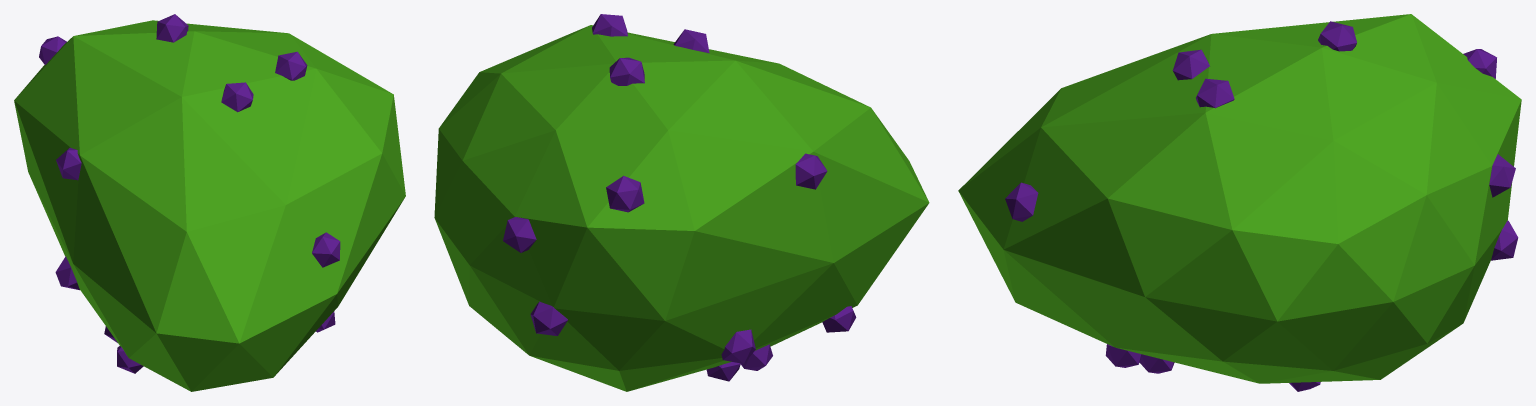
The model's file is Bush03_Brombeere.fbx.
3 views of the same model, side by side, from view 1: azimuth 30°, elevation 25°; view 2: azimuth 150°, elevation 25°; view 3: azimuth 270°, elevation 25° (orthographic). The views are drawn at different scales.
Visible parts, largest first — view 1: Bush03_Berry; view 2: Bush03_Berry; view 3: Bush03_Berry.
Boxes of the visible parts, box(x1,y1,x2,y2) form: Bush03_Berry: box(14, 14, 405, 391); Bush03_Berry: box(434, 14, 929, 391); Bush03_Berry: box(958, 14, 1521, 391).
Bounding box in the file's own units: 254 × 222 × 318.
